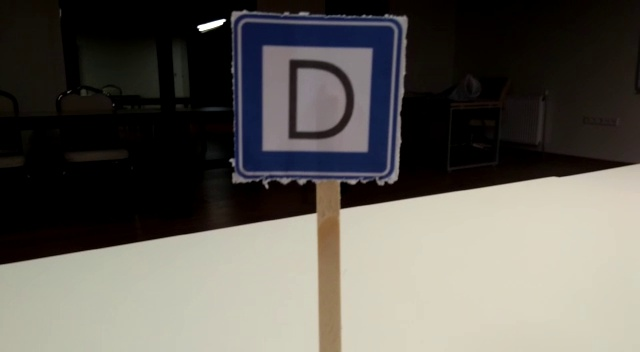durak: (233, 17, 403, 182)
